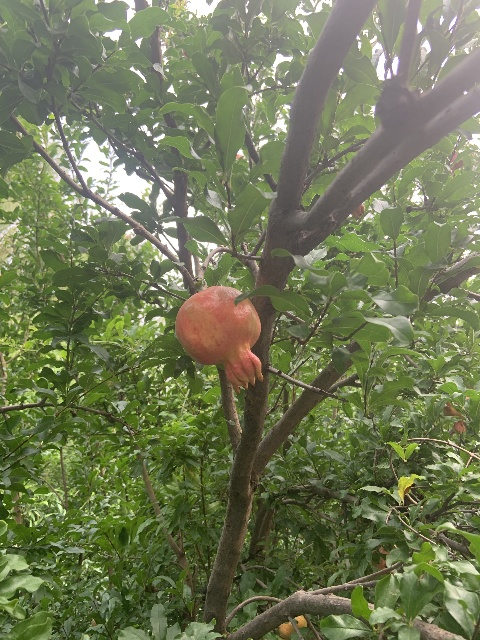ripe: (174, 286, 264, 393)
